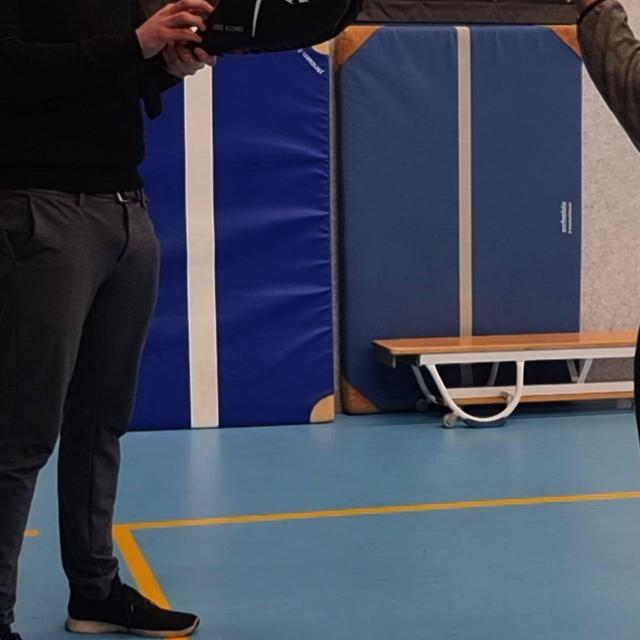paddle: (190, 0, 370, 54)
